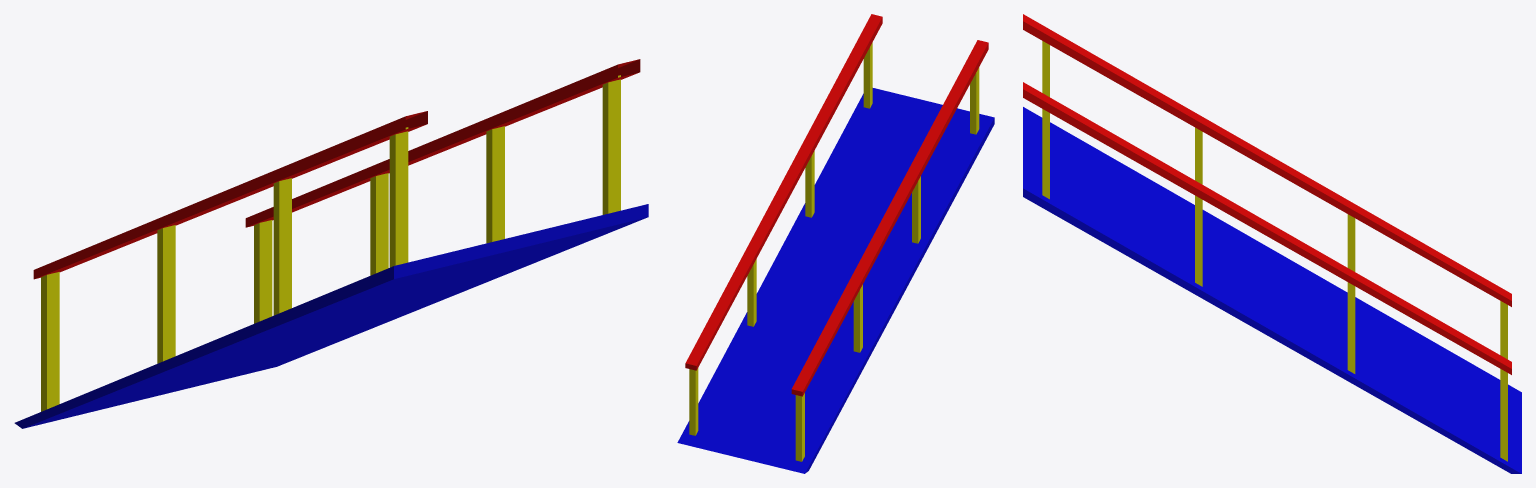
Rendered from SM0036_Scifi_HangarPlatform_Ramp_01.fbx.
3 views of the same model, side by side, from view 1: azimuth 30°, elevation 25°; view 2: azimuth 150°, elevation 25°; view 3: azimuth 270°, elevation 25° (orthographic). The views are drawn at different scales.
Visible parts, largest first — view 1: SM0036_Scifi_HangarPlatform_Ramp_01; view 2: SM0036_Scifi_HangarPlatform_Ramp_01; view 3: SM0036_Scifi_HangarPlatform_Ramp_01.
Boxes of the visible parts, bbox=[...] form: SM0036_Scifi_HangarPlatform_Ramp_01: bbox=[14, 59, 648, 428]; SM0036_Scifi_HangarPlatform_Ramp_01: bbox=[677, 14, 994, 473]; SM0036_Scifi_HangarPlatform_Ramp_01: bbox=[1023, 14, 1521, 473].
Size of the model in its own units: 201 by 440 by 520.
